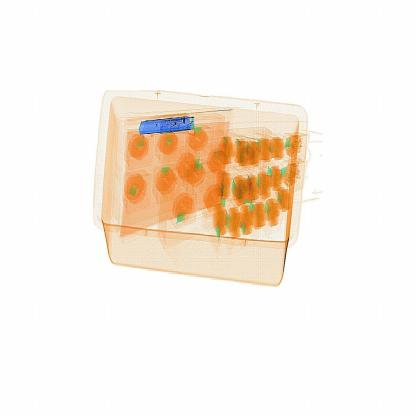pliers: (125, 102, 201, 142)
